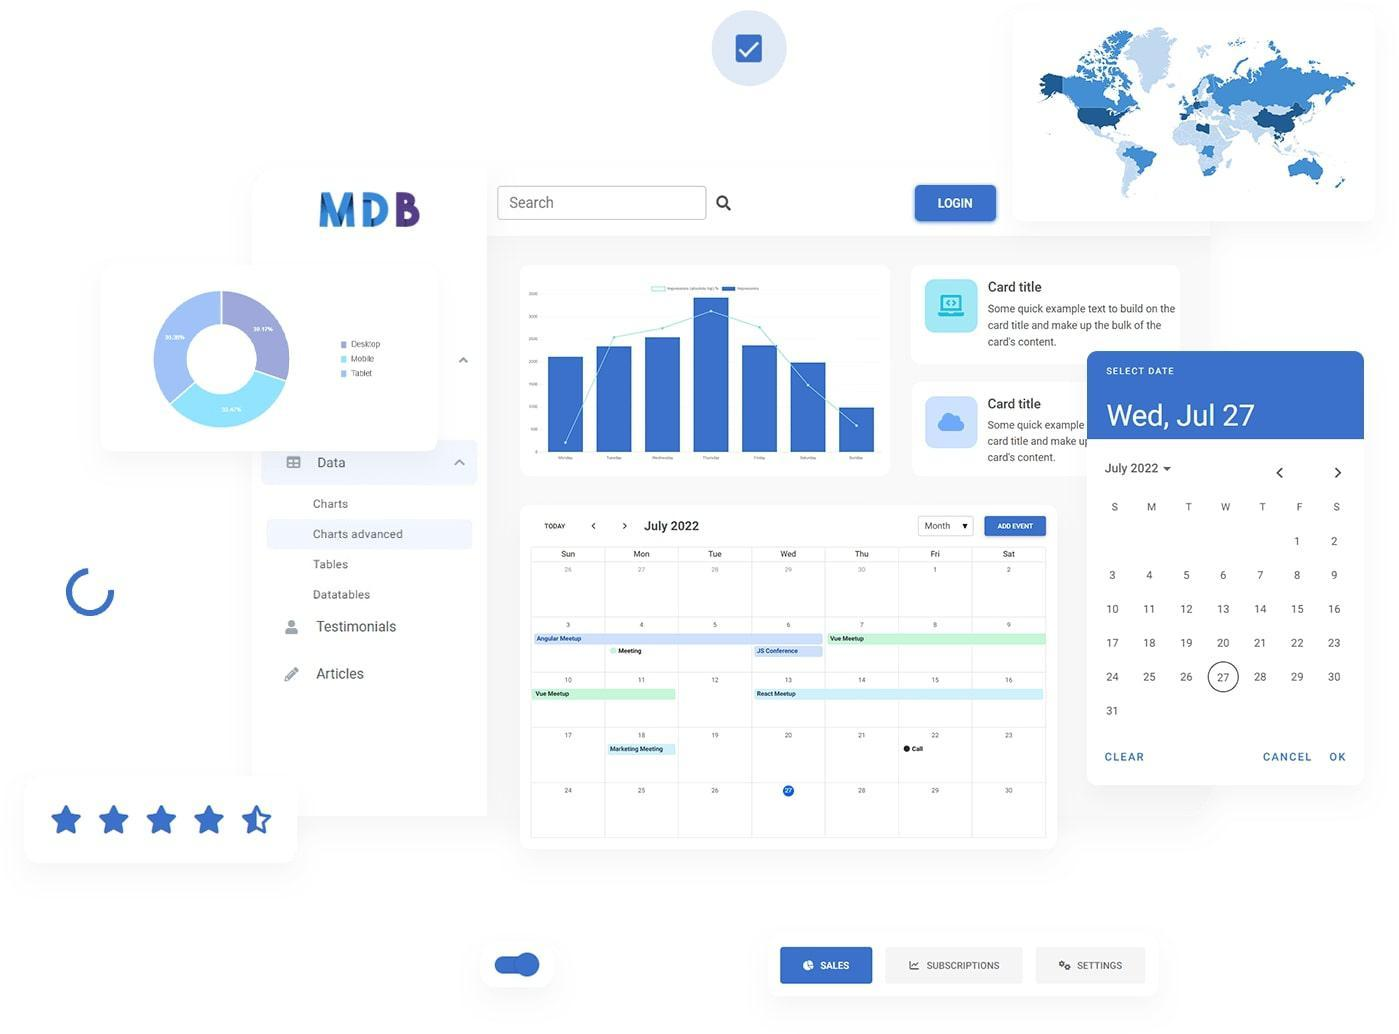button: (267, 516, 472, 553), (886, 946, 1024, 986), (1033, 947, 1149, 983), (781, 947, 874, 984), (915, 186, 997, 224), (986, 516, 1049, 539)
checkbox: (738, 35, 762, 62)
dropdown: (261, 450, 479, 489), (919, 516, 974, 538)
icon: (235, 802, 276, 844), (191, 800, 229, 844), (144, 799, 182, 842), (96, 800, 133, 842), (50, 802, 86, 840), (715, 190, 734, 220), (281, 665, 304, 686), (285, 619, 302, 639)
input: (496, 182, 710, 224)
label: (313, 618, 409, 636), (308, 585, 377, 606), (316, 664, 371, 686), (1261, 746, 1315, 768), (1102, 744, 1149, 768), (306, 494, 360, 515), (311, 557, 356, 573), (1323, 745, 1353, 768)
switch: (495, 953, 542, 979)
